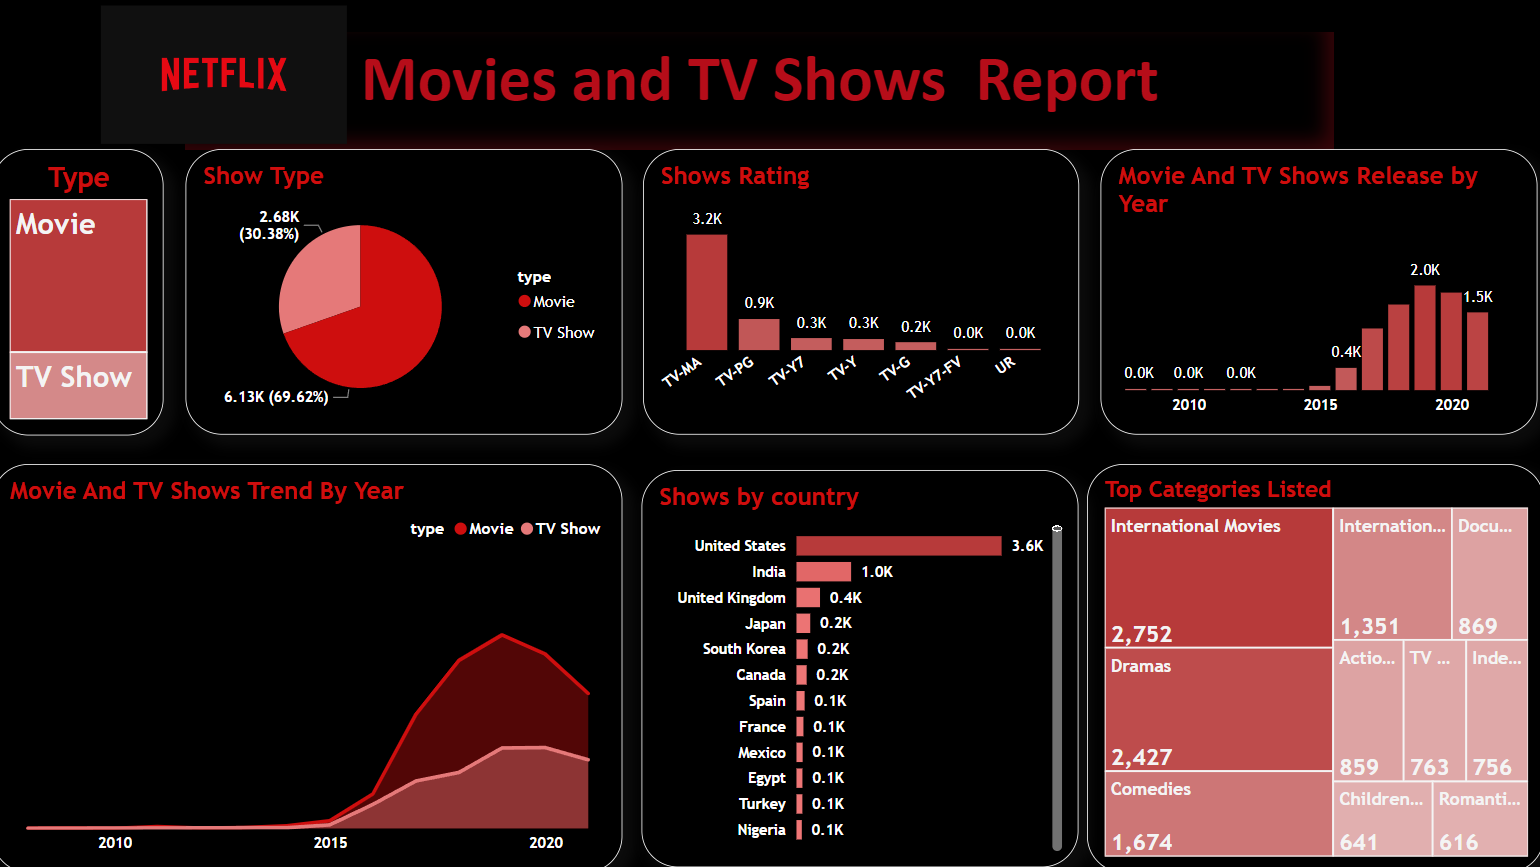

This screenshot's page, from the dashboard's own definition file:
{"tool":"powerbi","page":{"name":"Page 1","canvas":[1280,720],"ordinal":0},"visuals":[{"type":"textbox","box":[159.5,27,946.2,97.3],"z":0},{"type":"pieChart","title":"Show Type","fields":{"Category":["netflix_titles.type"],"Y":["CountNonNull(netflix_titles.show_id)"]},"box":[159.7,124.1,359.8,235],"z":1000},{"type":"clusteredBarChart","title":"Shows by country","fields":{"Category":["netflix_titles.country"],"Y":["Count(netflix_titles.show_id)"]},"box":[535.1,387.7,359.8,327.2],"z":2000},{"type":"areaChart","title":"Movie And TV Shows Trend By Year","fields":{"Category":["netflix_titles.date_added.Variation.Date Hierarchy.Year","netflix_titles.date_added.Variation.Date Hierarchy.Quarter","netflix_titles.date_added.Variation.Date Hierarchy.Month"],"Y":["CountNonNull(netflix_titles.show_id)"],"Series":["netflix_titles.type"]},"box":[0,383.1,519.6,336.5],"z":3000},{"type":"columnChart","title":"Movie And TV Shows Release by Year","fields":{"Category":["netflix_titles.date_added.Variation.Date Hierarchy.Year"],"Y":["CountNonNull(netflix_titles.show_id)"]},"box":[913.5,124.1,360,235],"z":4000},{"type":"columnChart","title":"Shows Rating","fields":{"Y":["CountNonNull(netflix_titles.rating)"],"Category":["netflix_titles.rating"]},"box":[536.6,124.1,359,235],"z":5000},{"type":"treemap","title":"Top Categories Listed","fields":{"Group":["Category Mapping.listed_in"],"Values":["CountNonNull(Category Mapping.show_id)"]},"box":[902.6,383.1,376.9,336.5],"z":6000},{"type":"treemap","title":"Type","fields":{"Group":["netflix_titles.type"],"Values":["CountNonNull(netflix_titles.type)"]},"box":[0,124.1,141.1,235.7],"z":7000},{"type":"image","box":[12.2,0,356.9,124.4],"z":7003}]}

Visuals, with their boxes in screenshot pixels (x1, y1, x2, y2), scaled from the page's 1280x720 canvas onto the 1540x867 screenshot:
textbox: bbox=[192, 33, 1330, 150]
"Show Type" pieChart: bbox=[192, 149, 625, 432]
"Shows by country" clusteredBarChart: bbox=[644, 467, 1077, 861]
"Movie And TV Shows Trend By Year" areaChart: bbox=[0, 461, 625, 866]
"Movie And TV Shows Release by Year" columnChart: bbox=[1099, 149, 1532, 432]
"Shows Rating" columnChart: bbox=[646, 149, 1078, 432]
"Top Categories Listed" treemap: bbox=[1086, 461, 1539, 866]
"Type" treemap: bbox=[0, 149, 170, 433]
image: bbox=[15, 0, 444, 150]
